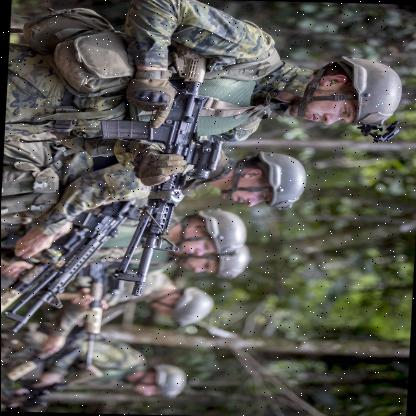rifle: (87, 47, 233, 302), (0, 197, 140, 335)
